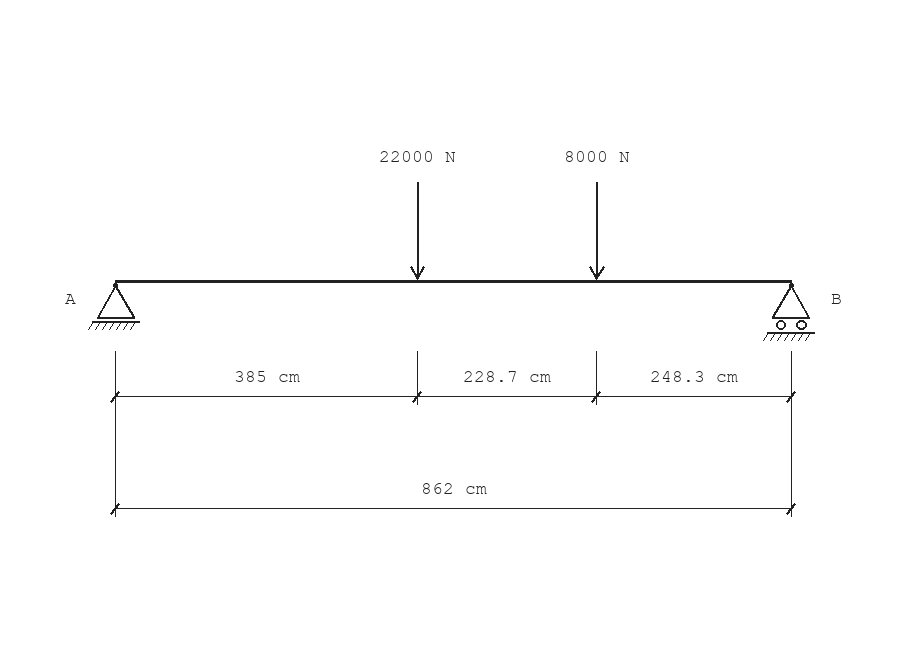pin_support: (88, 283, 140, 330)
point_load: (589, 182, 605, 280), (410, 182, 425, 280)
roller_support: (763, 283, 815, 341)
